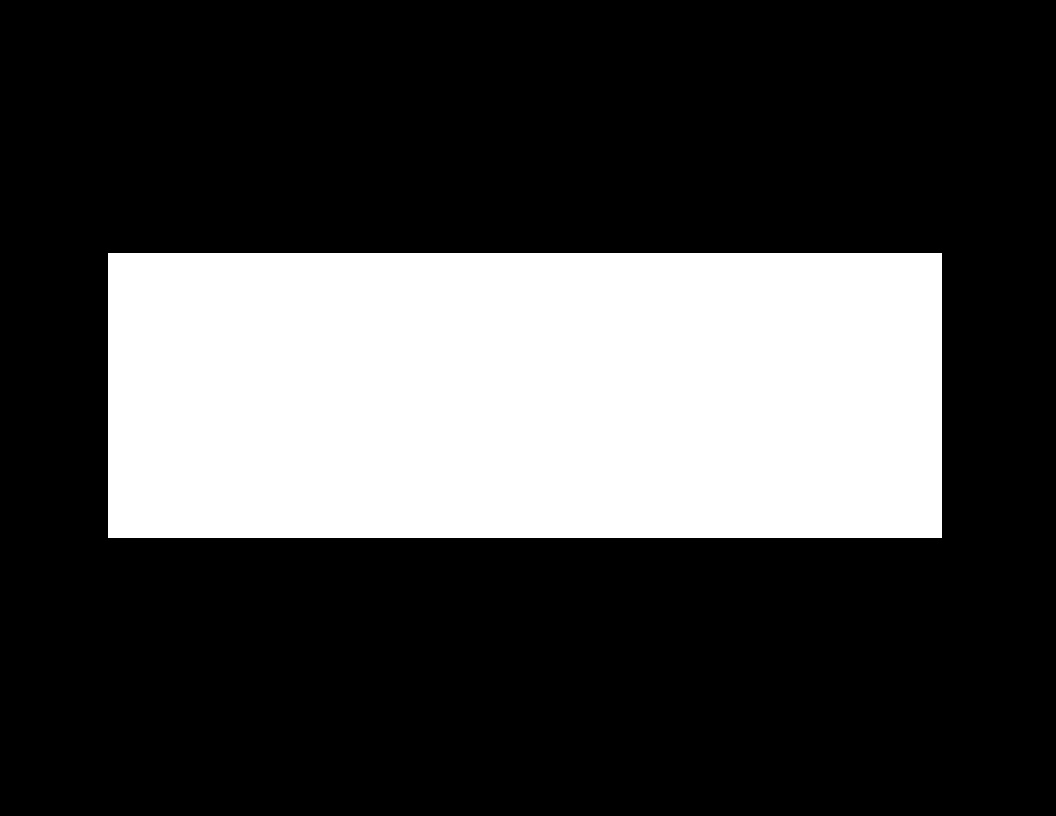table: (108, 253, 941, 537)
